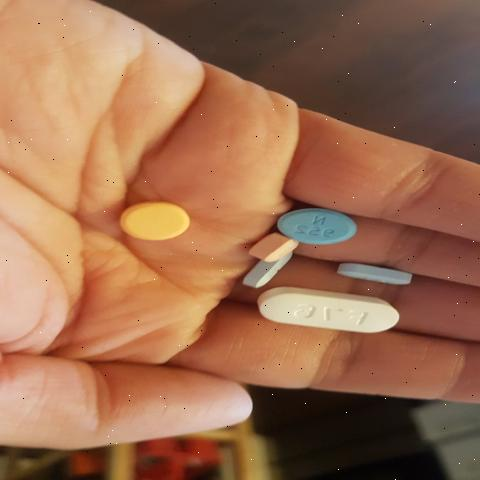Pill: (245, 285, 434, 334), (112, 188, 210, 258)
